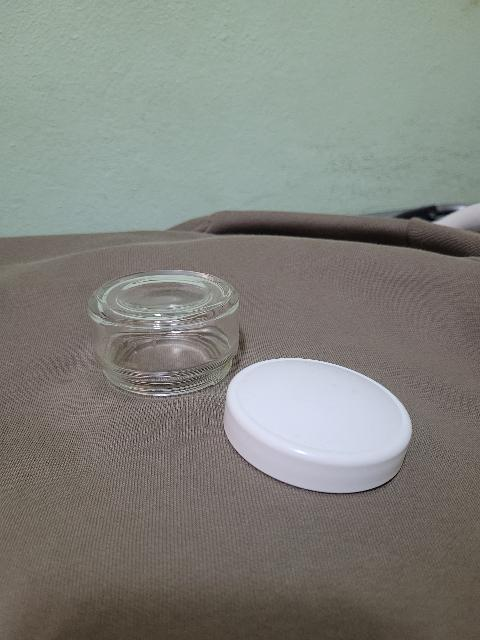Cam: (84, 269, 237, 400)
Plastik: (222, 358, 414, 501)
